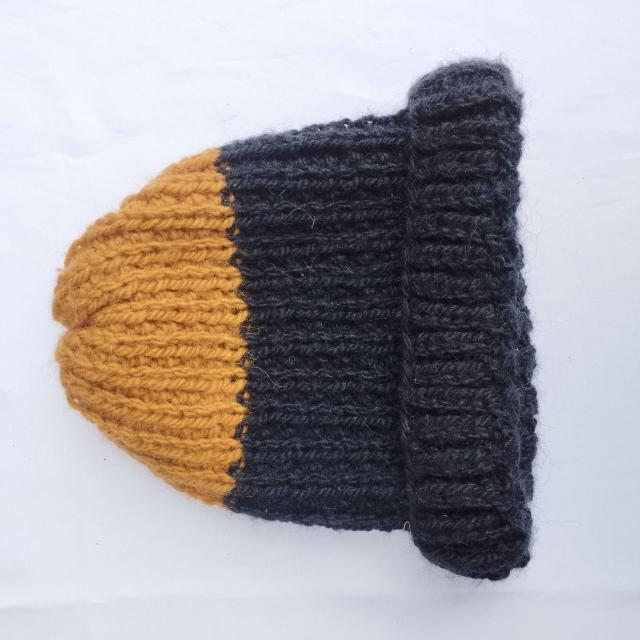Gorro: (51, 56, 540, 581)
